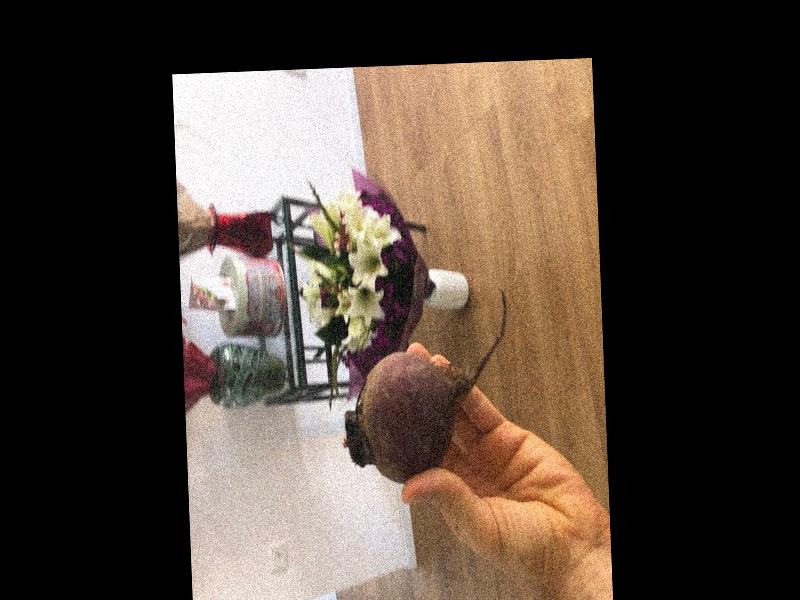Beet: (338, 286, 512, 484)
